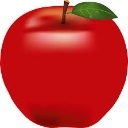apple: (1, 1, 128, 128)
